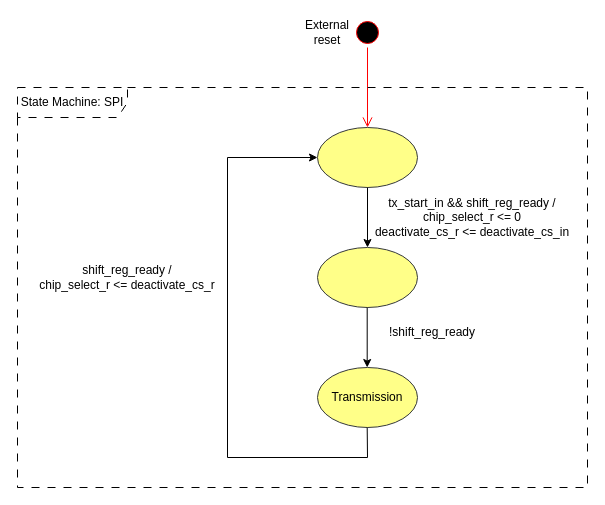
The diagram is 605 pixels wide and 505 high, and some of its shapes have lost their labels. Each missing label, with the centre of its shape:
IDLE: pixel 367 157
Trigger: pixel 367 277
